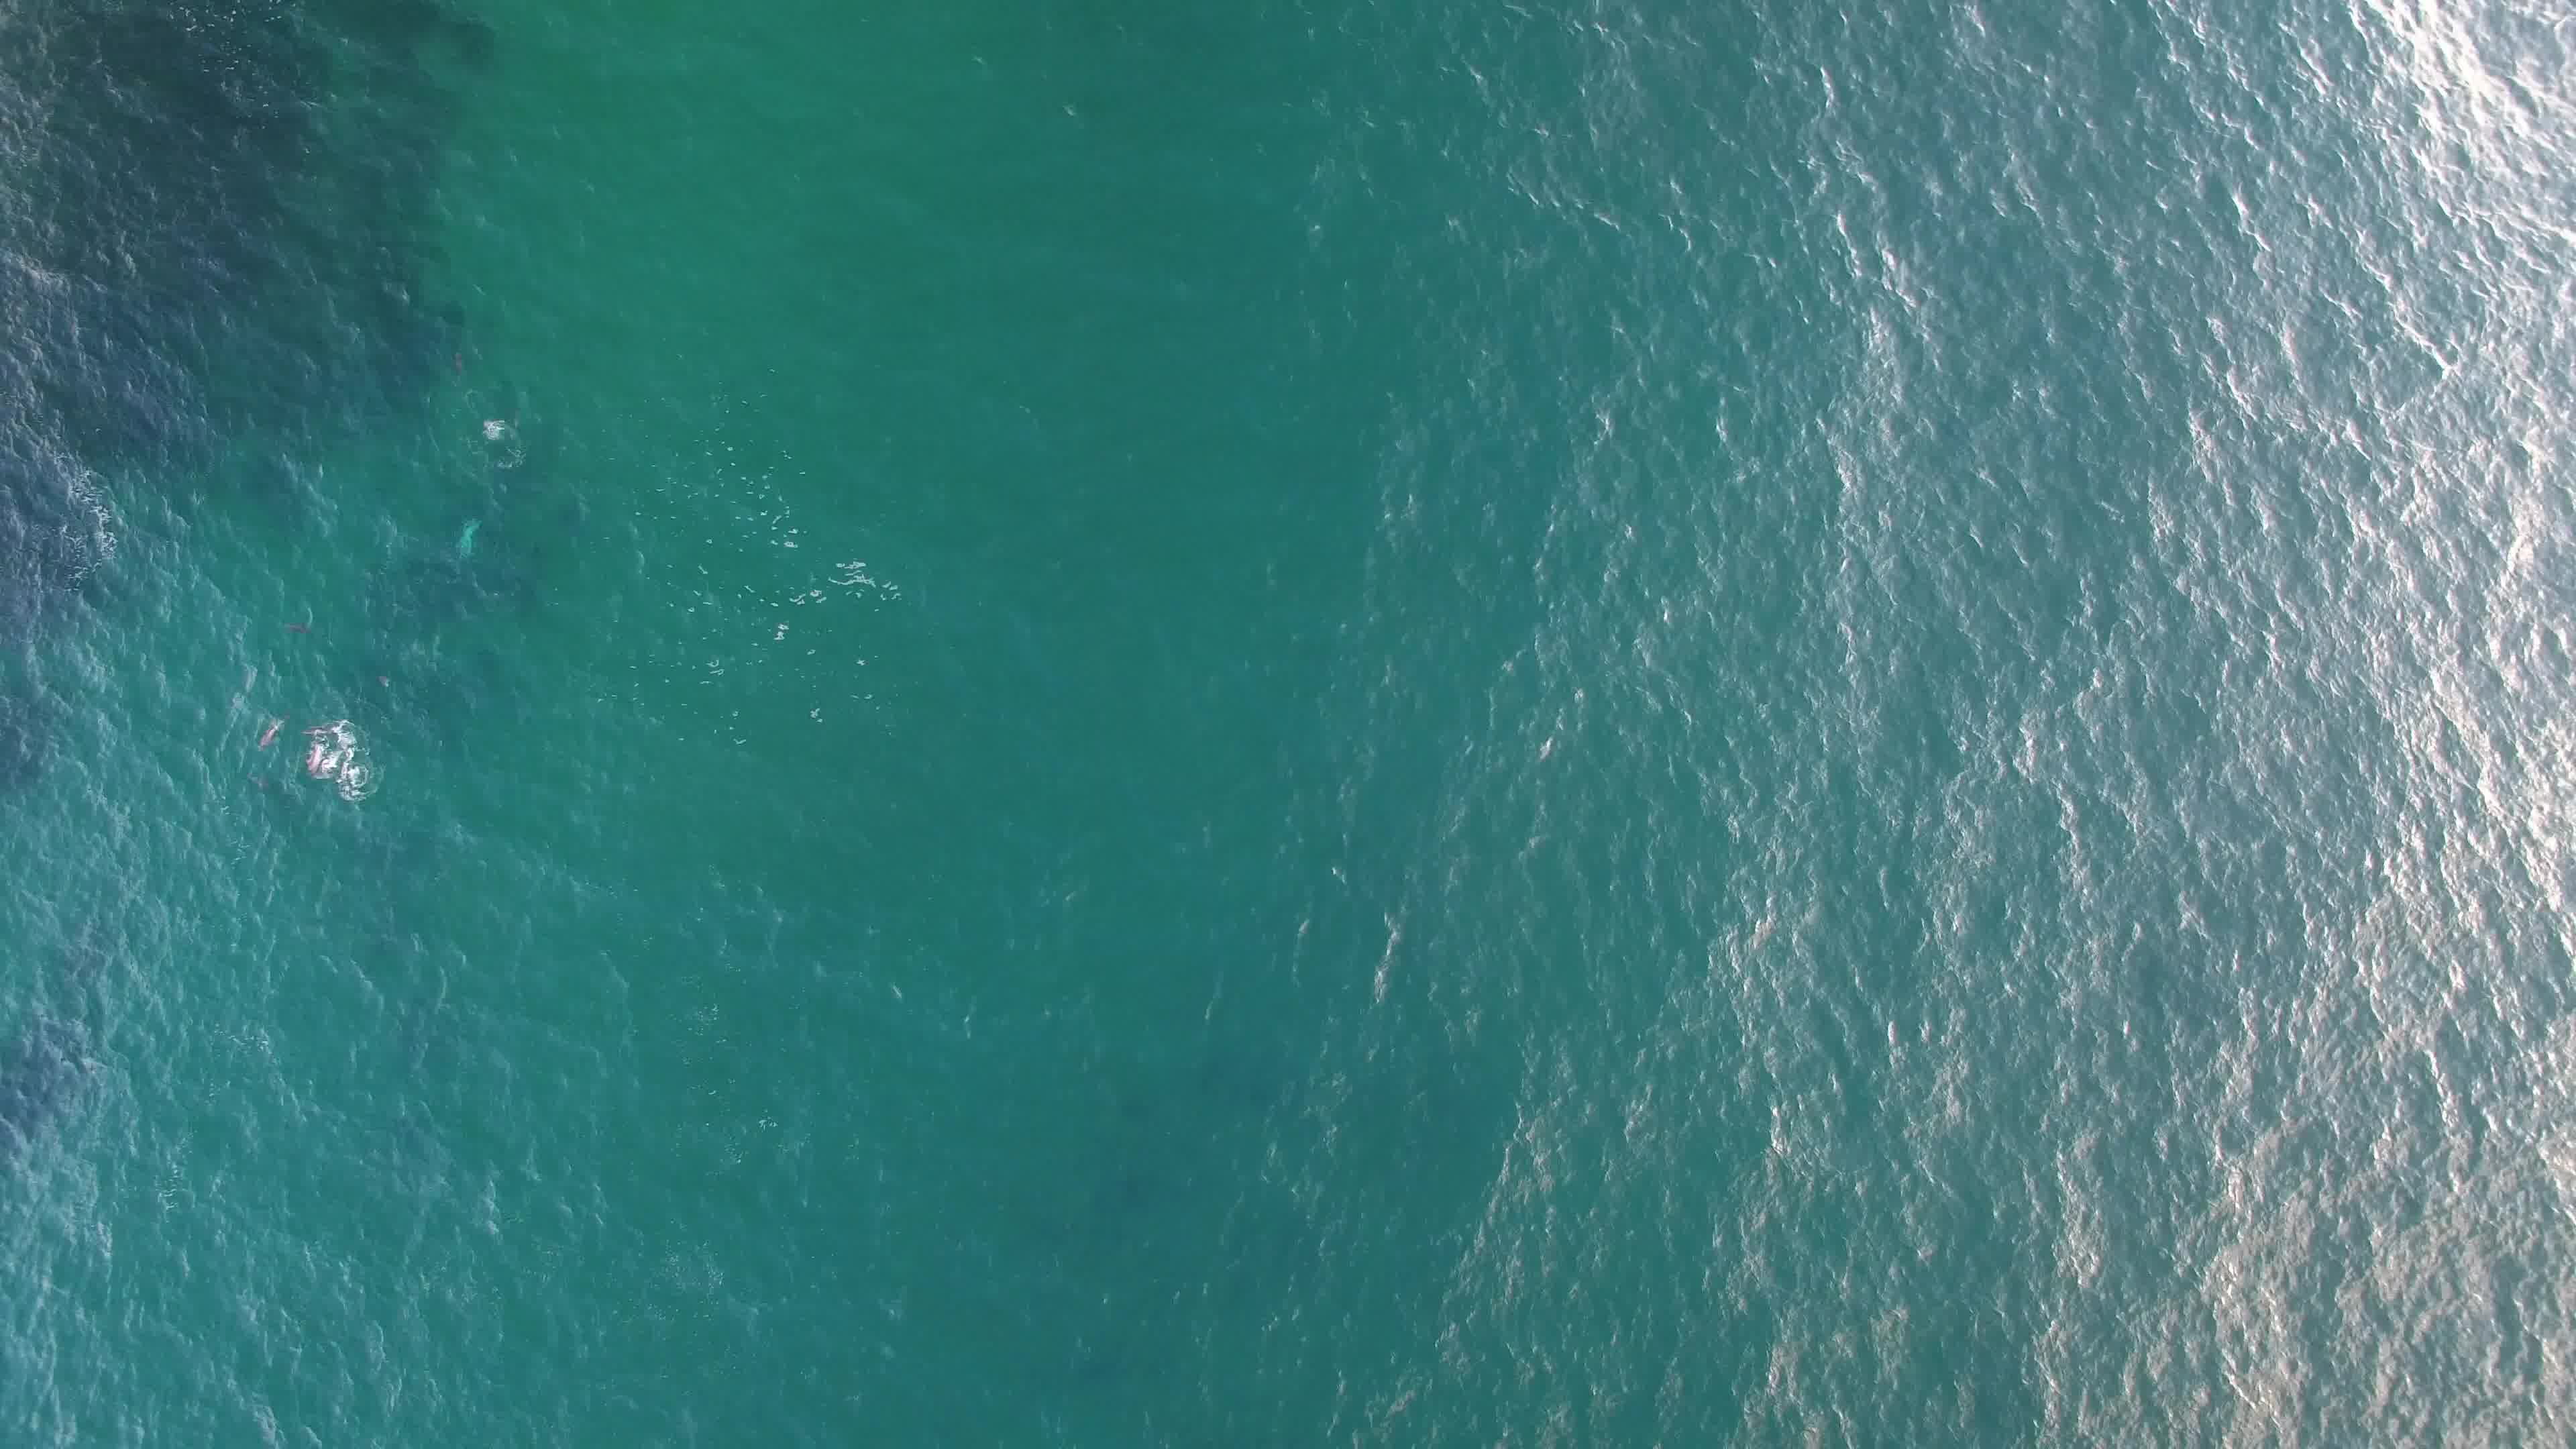dolphin: (246, 702, 303, 757), (278, 610, 331, 651), (299, 718, 350, 738), (301, 738, 327, 775)
